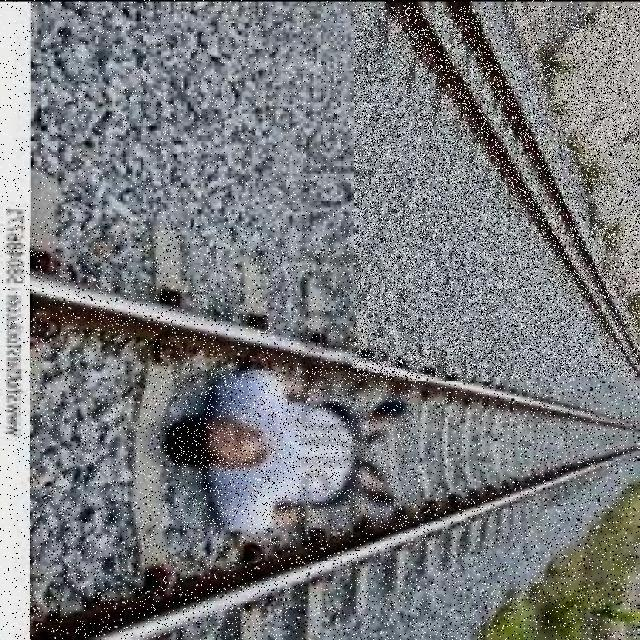danger: (175, 369, 418, 526)
rail: (31, 226, 639, 640), (354, 6, 639, 377)
